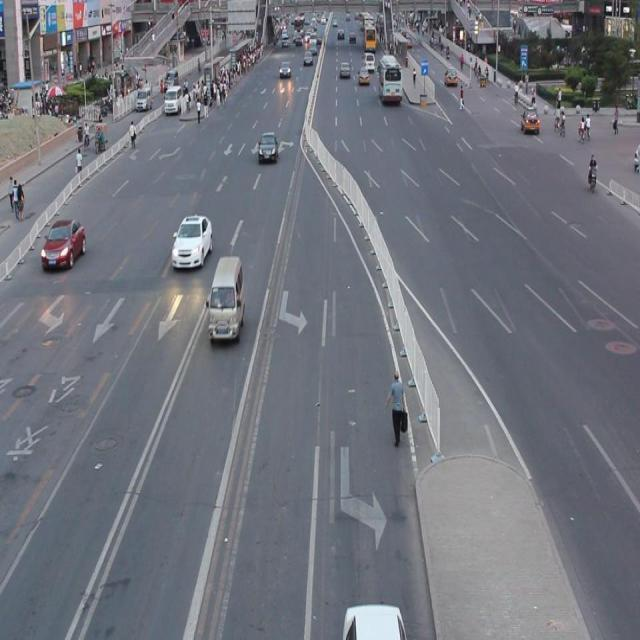BigCar: (376, 54, 408, 113)
car: (204, 244, 247, 353), (37, 207, 89, 275), (167, 210, 213, 281), (254, 125, 285, 175), (514, 97, 544, 142), (163, 82, 183, 128), (273, 53, 295, 92), (441, 65, 462, 91), (134, 85, 152, 115)
